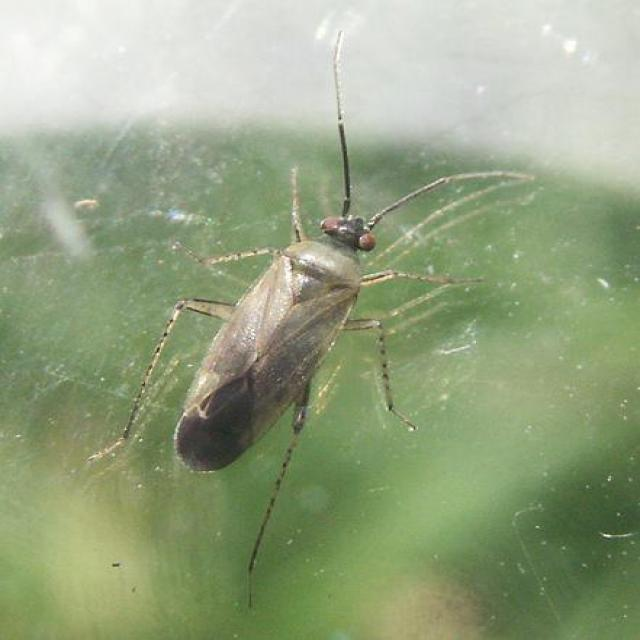Miridae-Adult-: (96, 18, 548, 549)
